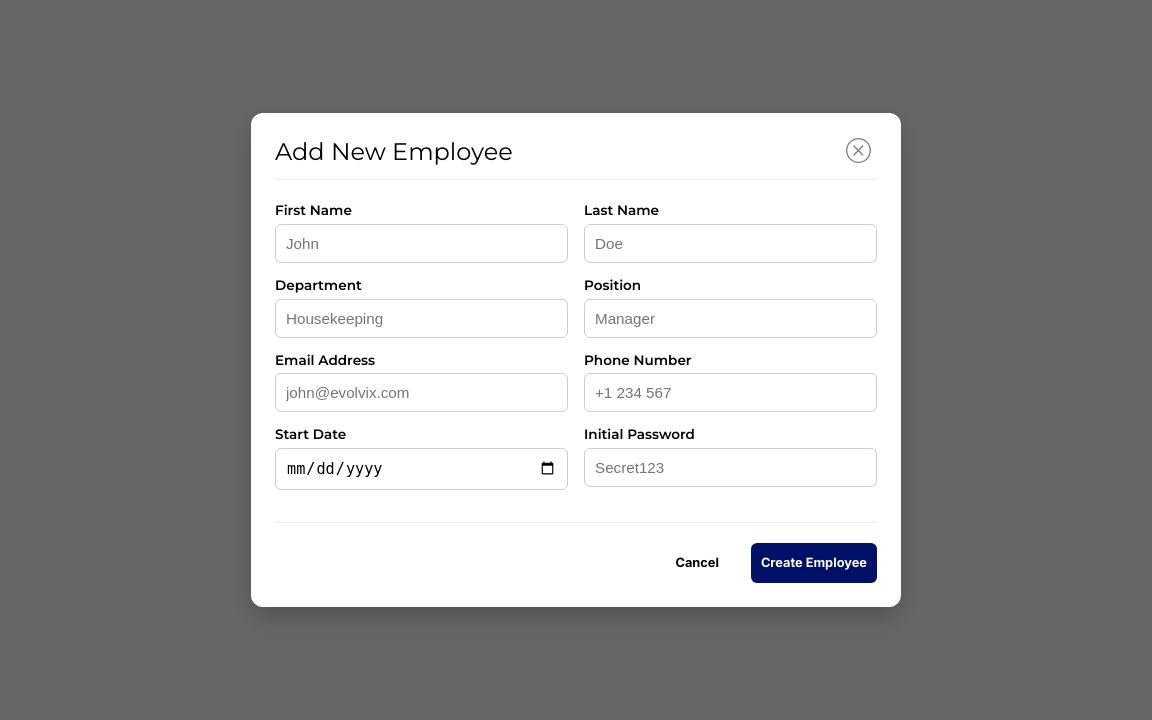
Test: AddEmployeePopup › should show validation errors when fields are empty and submitted
Click the button "Create Employee" at point(814, 563), box [751, 543, 877, 583]
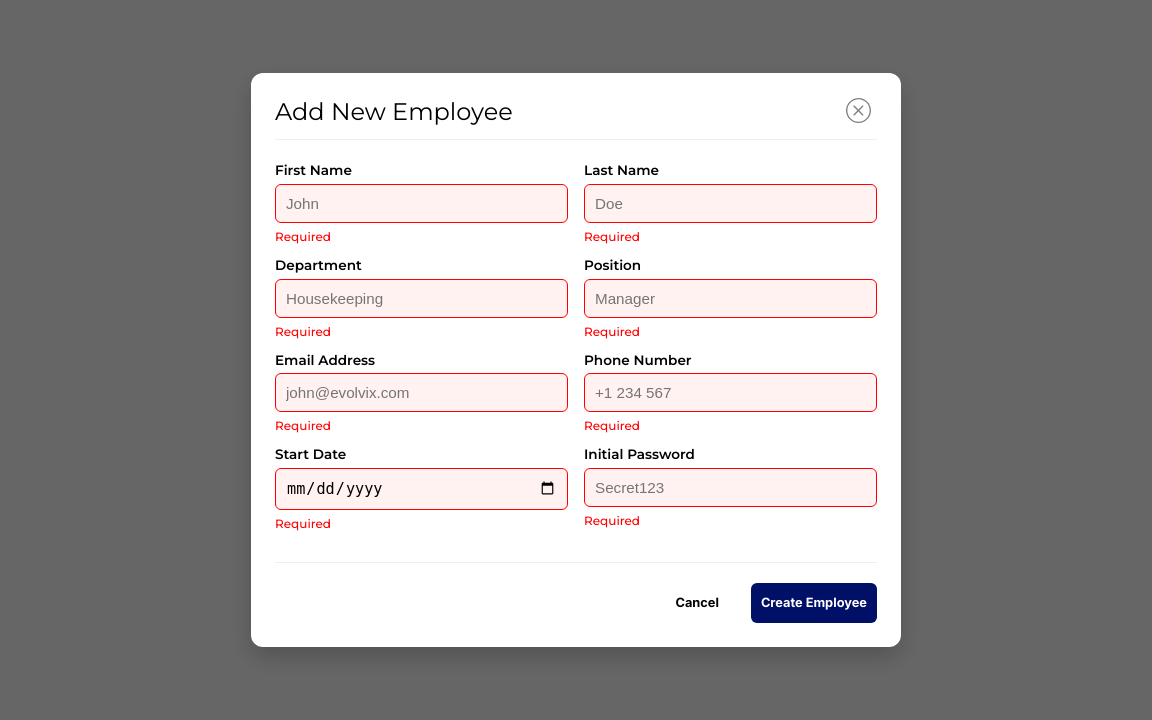
Check: the text "Required" below "First Name" is shown, box [275, 229, 331, 244]
